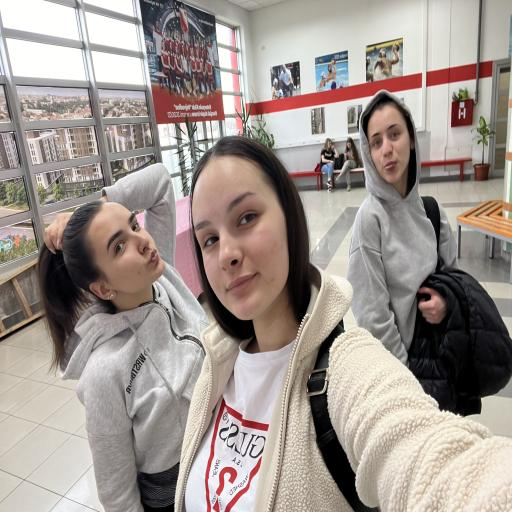marija: (193, 151, 299, 321)
masa: (363, 102, 422, 186)
